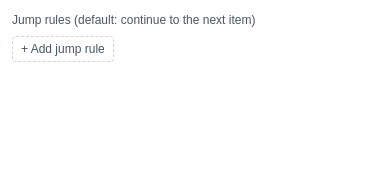
Scenario: M4 branch editing regression › keeps negative and zero scale triggers numeric and includes both endpoints
Later steps or results of the test are not shown.
Step 1. Click the button "+ Add jump rule" → coordinates (63, 49), box left=12, top=36, right=114, bottom=62
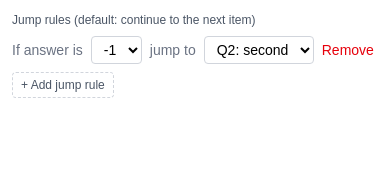
Step 2. Click the button "+ Add jump rule" → coordinates (63, 85), box left=12, top=72, right=114, bottom=98
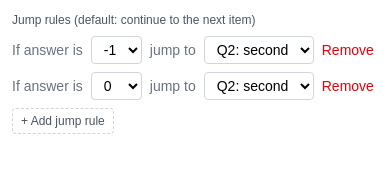
Step 3. Click the button "+ Add jump rule" → coordinates (63, 121), box left=12, top=108, right=114, bottom=134
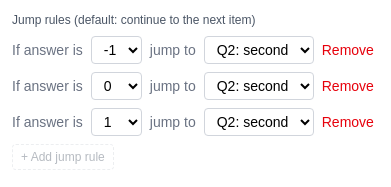
Expected: the button "+ Add jump rule" is disabled, left=12, top=144, right=114, bottom=170
